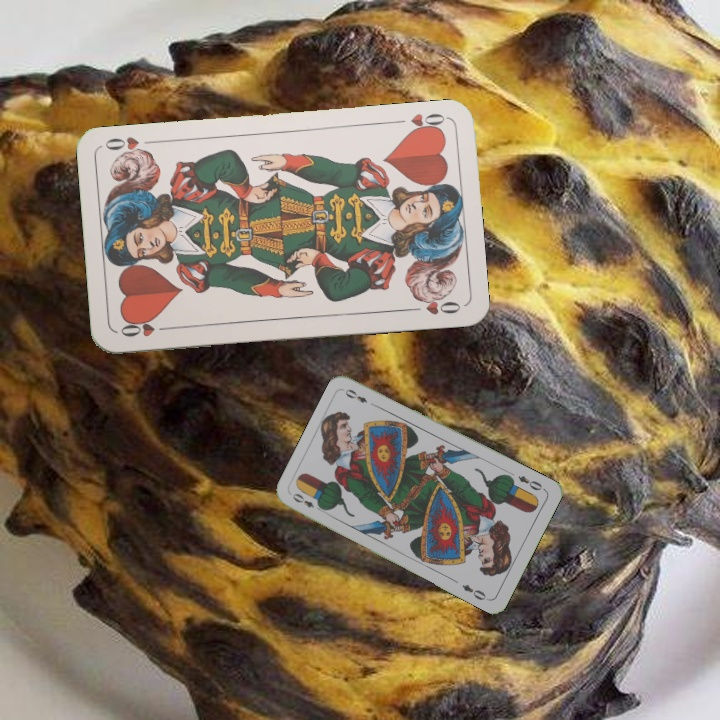EO: (288, 489, 326, 515), (514, 472, 548, 493)
HO: (389, 109, 449, 136), (116, 316, 174, 340)
